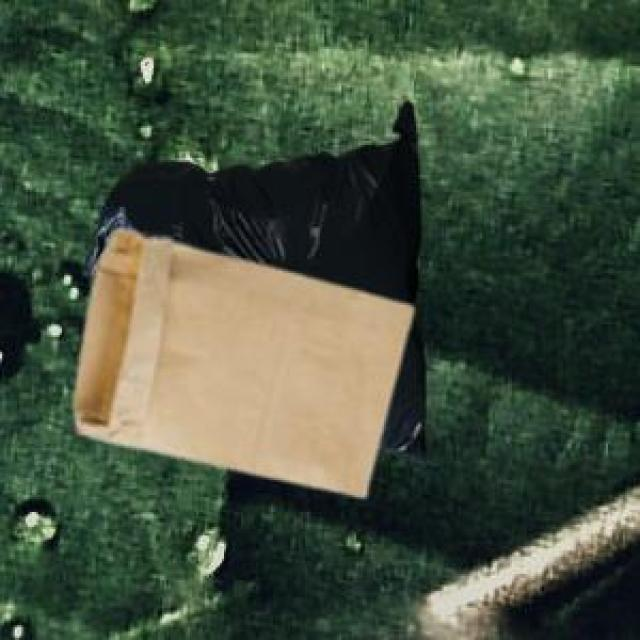miscellaneous trash: (81, 98, 416, 328)
paper: (70, 226, 410, 493)
